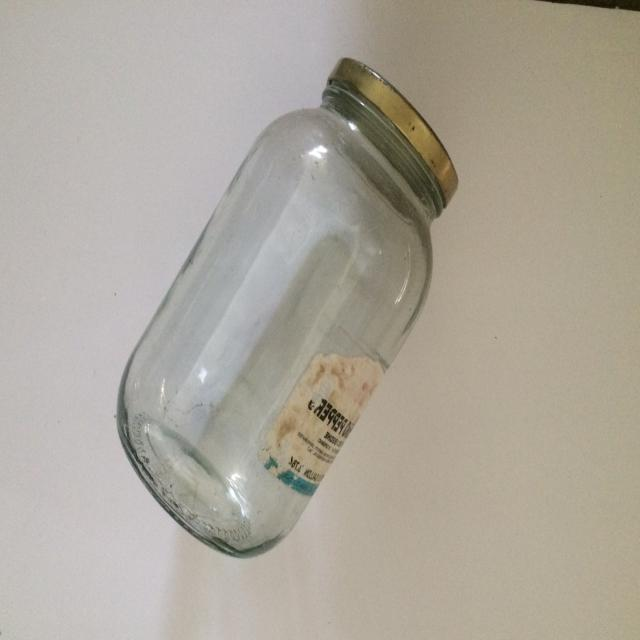glass: (115, 56, 459, 558)
